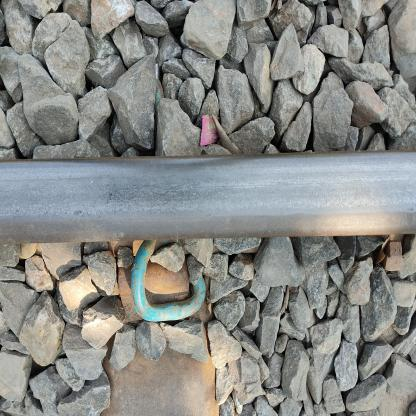Non Defective 1: (154, 86, 291, 244)
